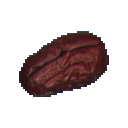ng: (15, 25, 116, 104)
